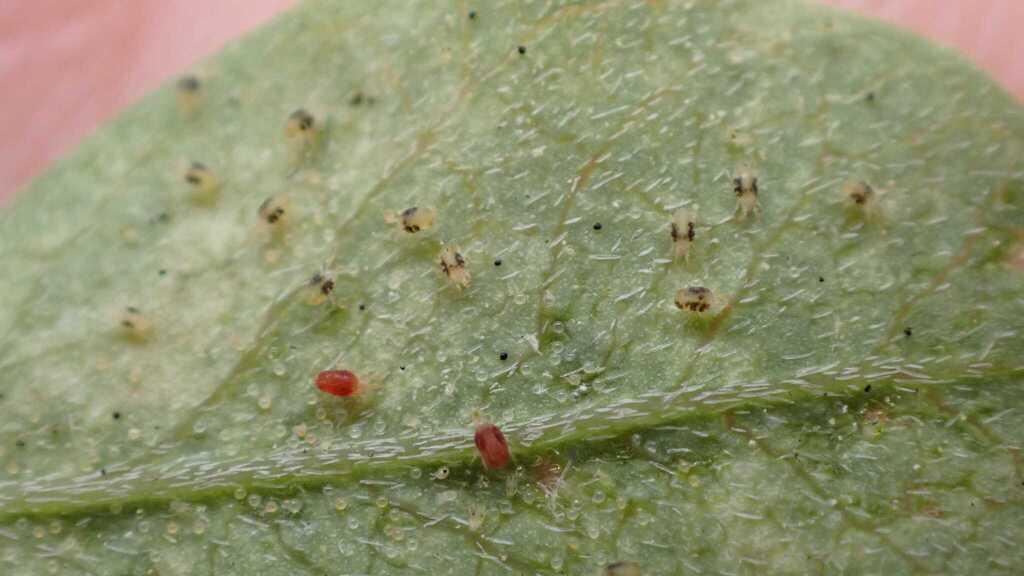tiny_pests: (451, 398, 532, 490), (292, 351, 394, 415), (821, 163, 904, 238), (283, 252, 360, 329), (649, 193, 713, 278), (719, 148, 783, 232), (653, 269, 729, 337), (417, 233, 492, 299), (379, 189, 449, 250)
